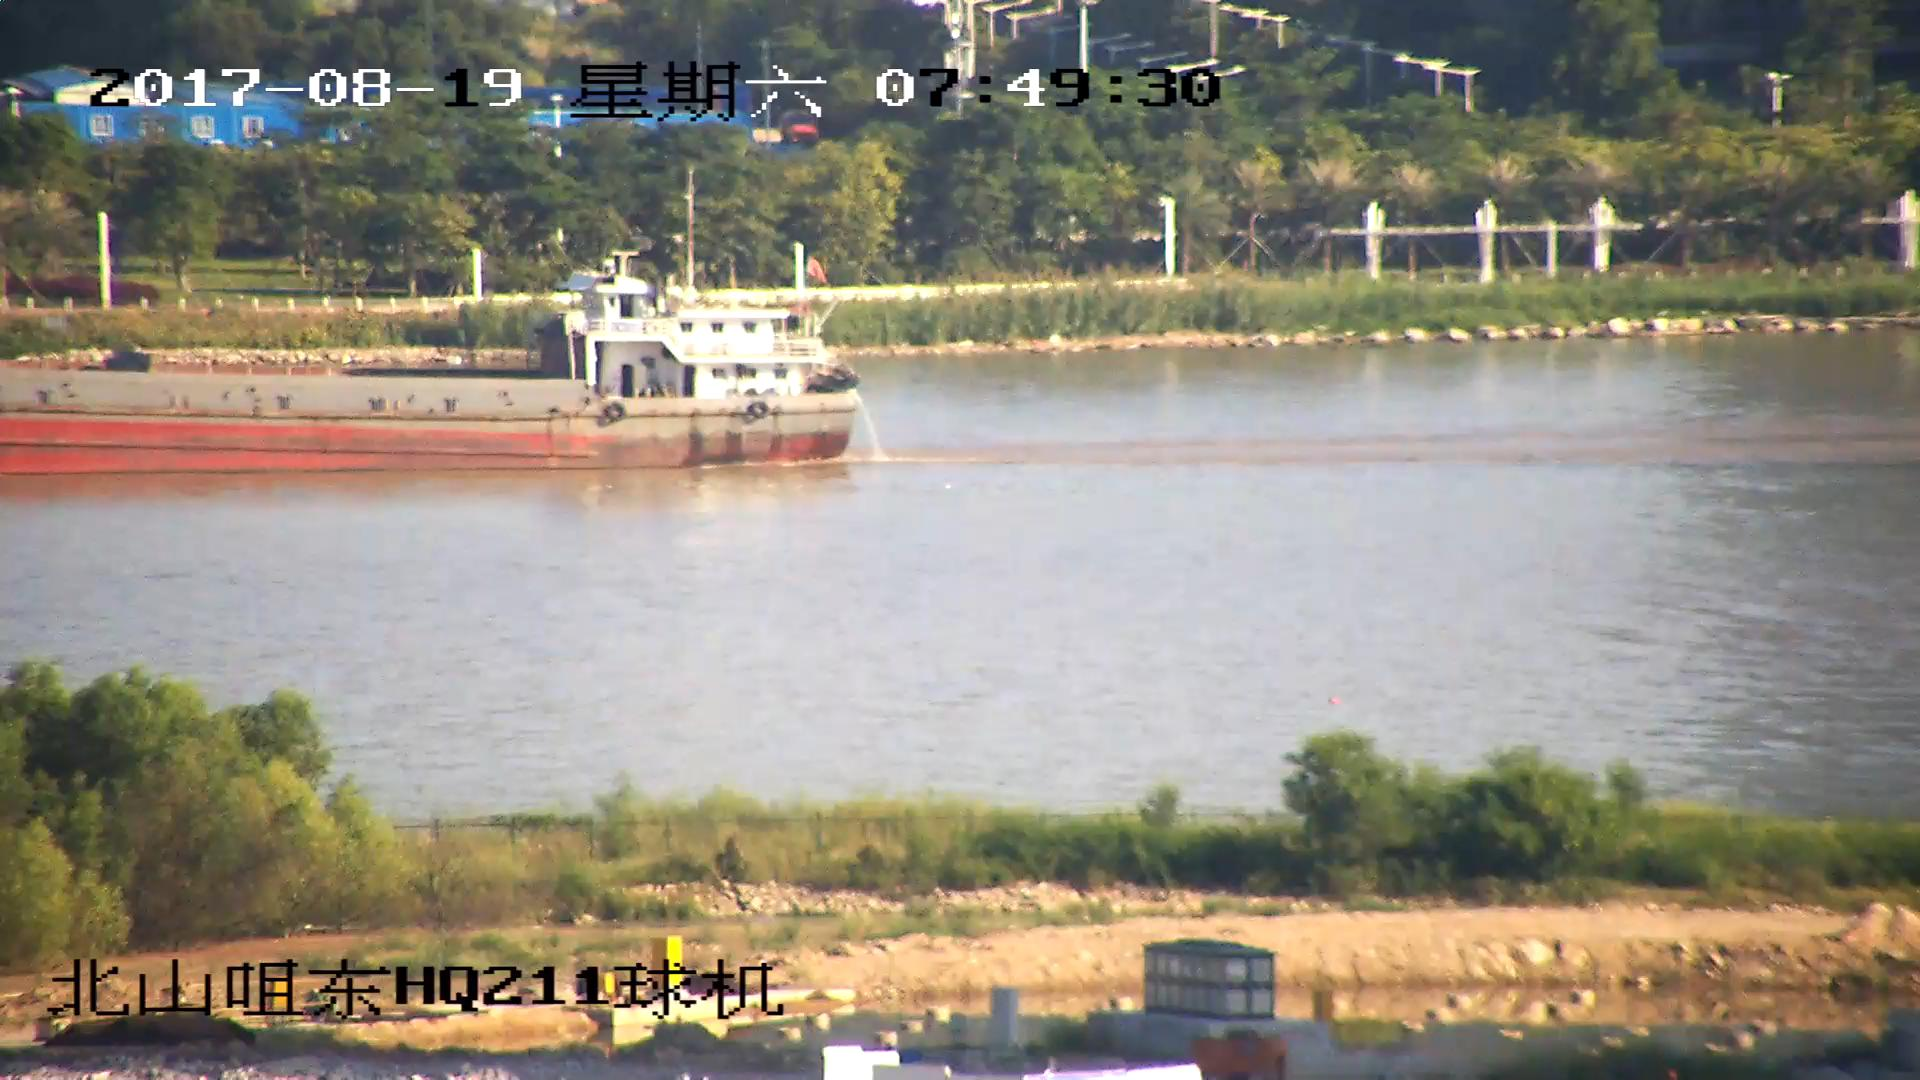bulk cargo carrier: (1, 267, 863, 477)
